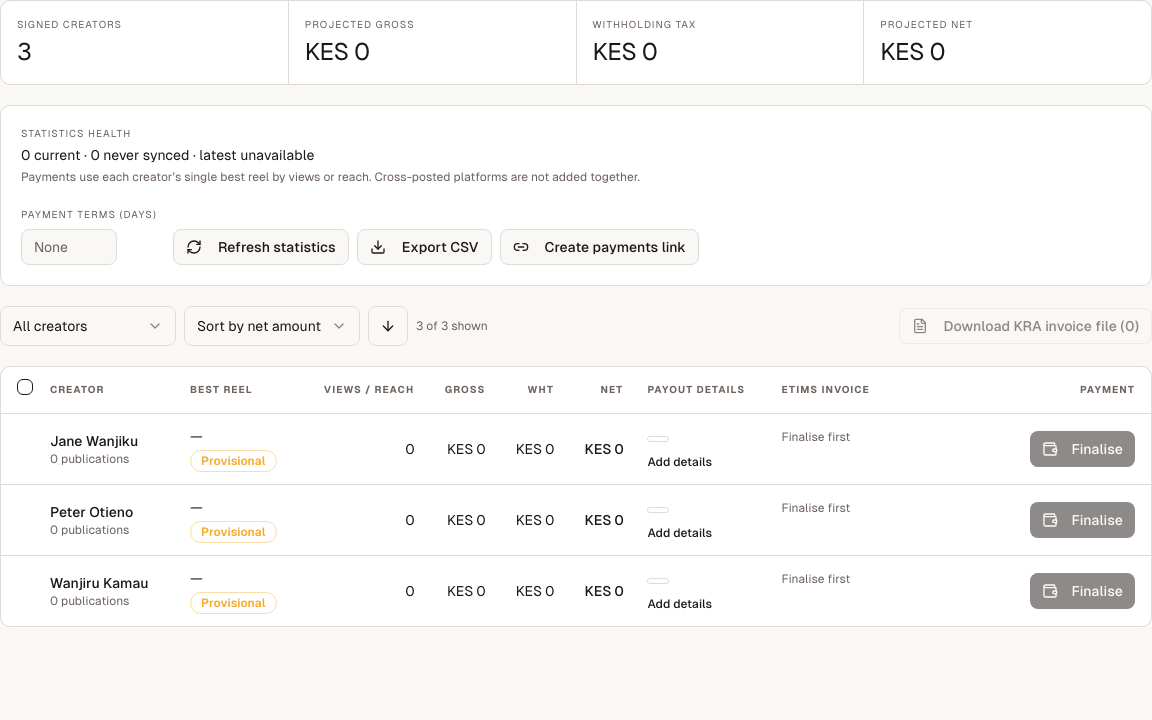
Test: staff payout details in the Payments tab › refuses a bad PIN
The image size is (1152, 720).
Expected: the text "Jane Wanjiku" is shown, 50,433 -> 138,449
Click the 3rd button "Add details" at (680, 604), box 647,596 -> 712,612
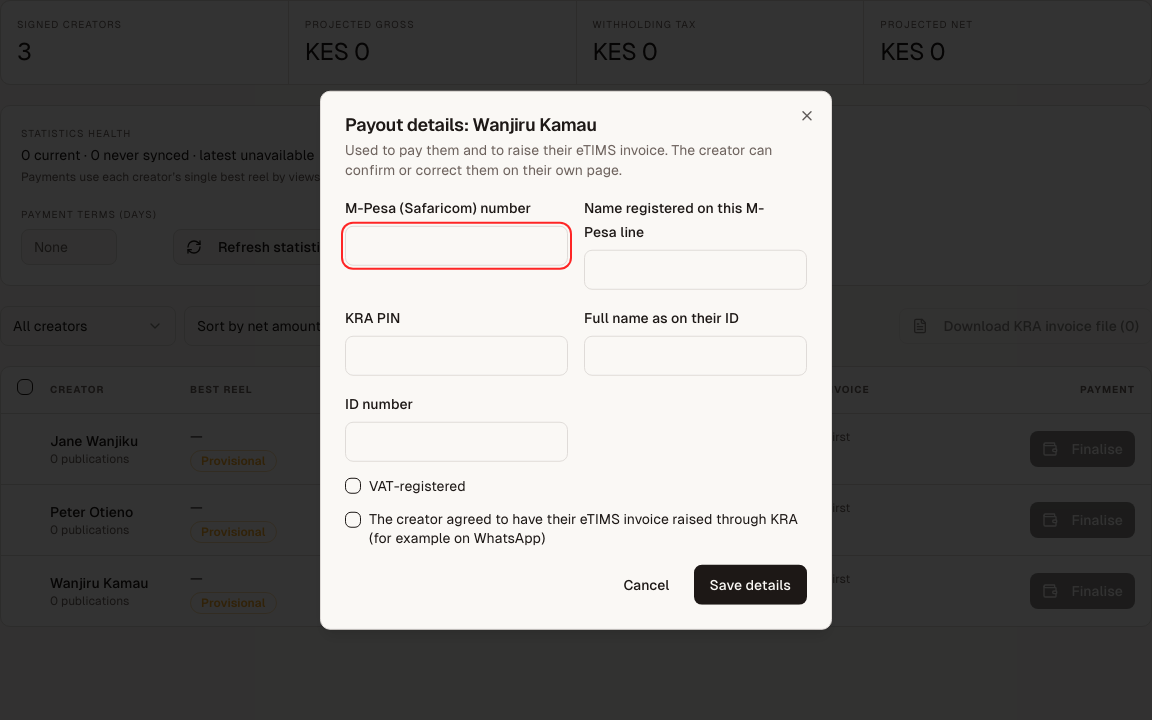
Type "0712 345 678" into the field labelled "M-Pesa (Safaricom) number" at (456, 246), box 345,226 -> 568,266
Type "Jane Kamau" into the field labelled "Name registered on this M-Pesa line" at (696, 270), box 584,250 -> 807,290
Type "B123456789Z" into the field labelled "KRA PIN" at (456, 356), box 345,336 -> 568,376
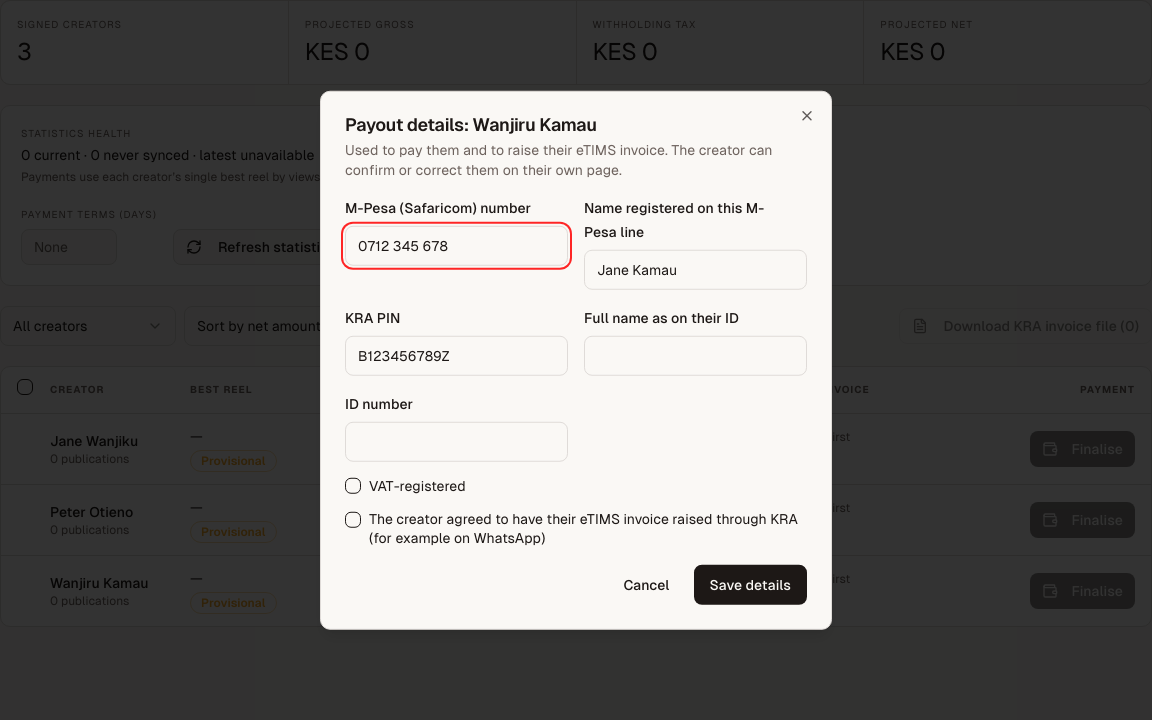
Type "Jane Wanjiku Kamau" into the field labelled "Full name as on their ID" at (696, 356), box 584,336 -> 807,376
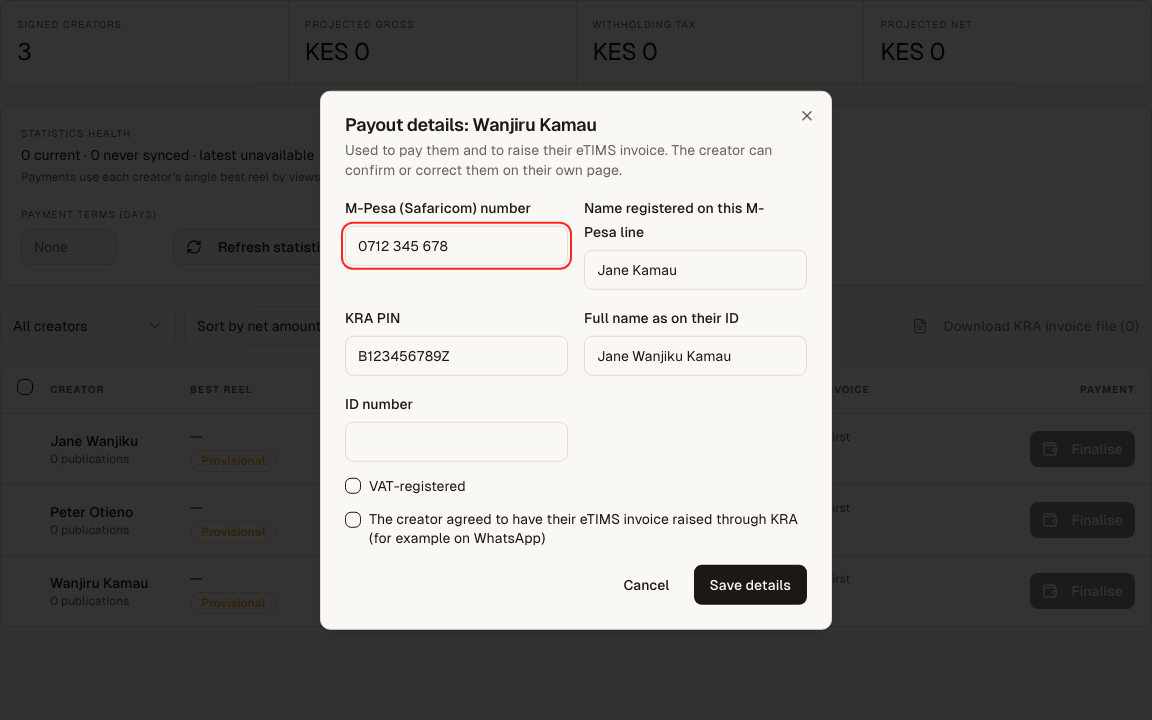
Type "12345678" into the field labelled "ID number" at (456, 442), box 345,422 -> 568,462
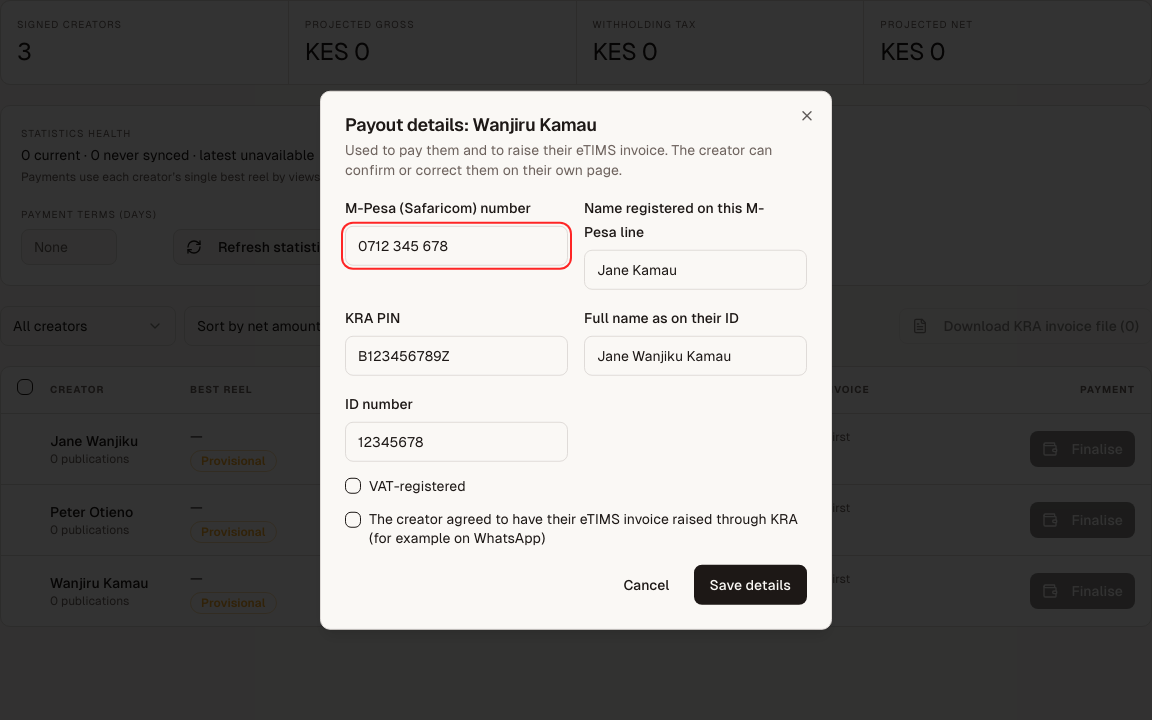
Click the 2nd checkbox named "creator agreed" at (353, 520), box 345,512 -> 361,528
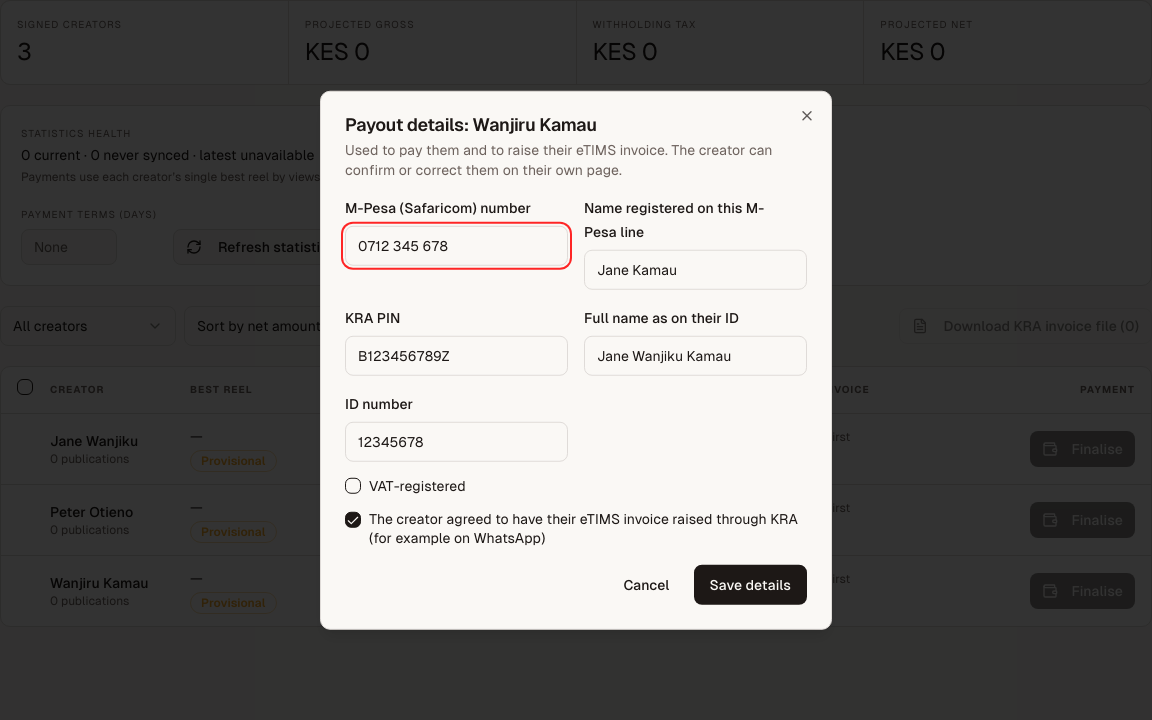
Click the button "Save details" at (750, 584), box 694,564 -> 807,604
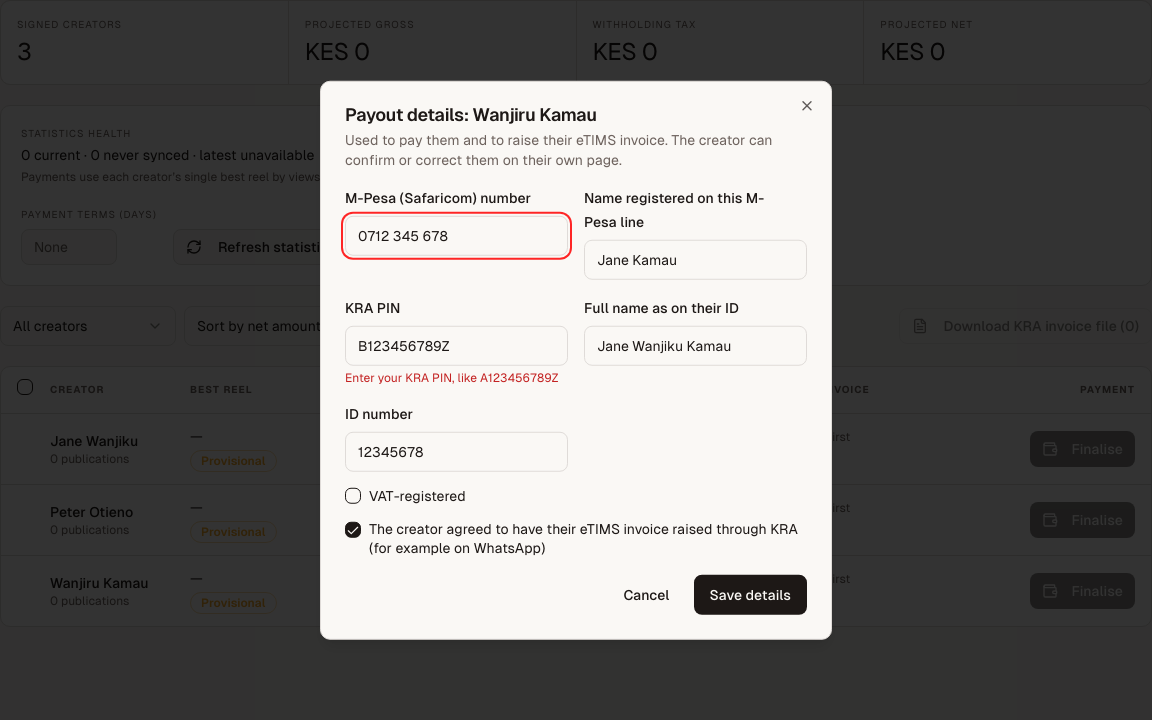
Result: the text "Enter your KRA PIN, like A123456789Z" is shown at 345,370 -> 568,386
